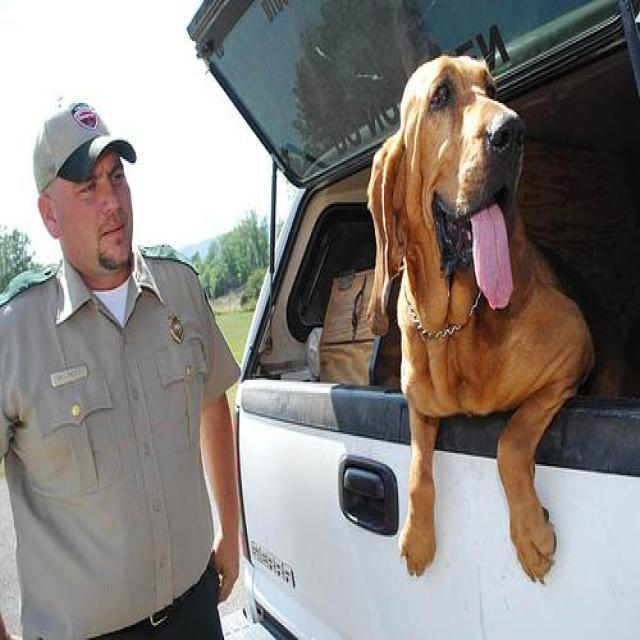bloodhound: (364, 51, 631, 586)
